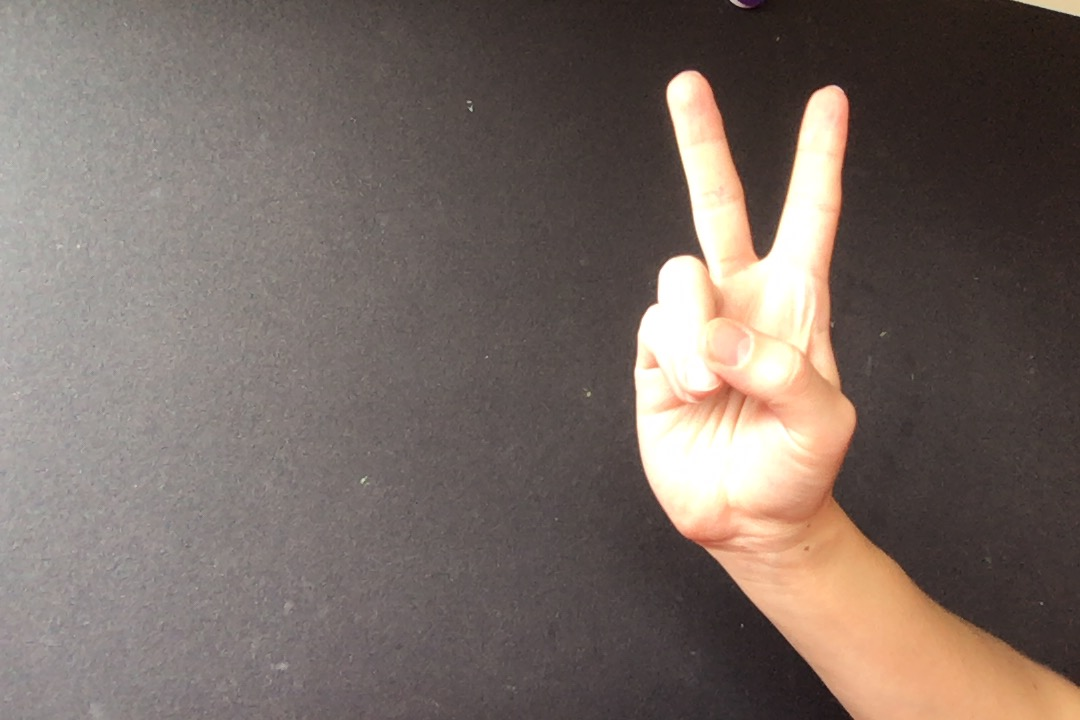peacesign: (623, 62, 865, 566)
